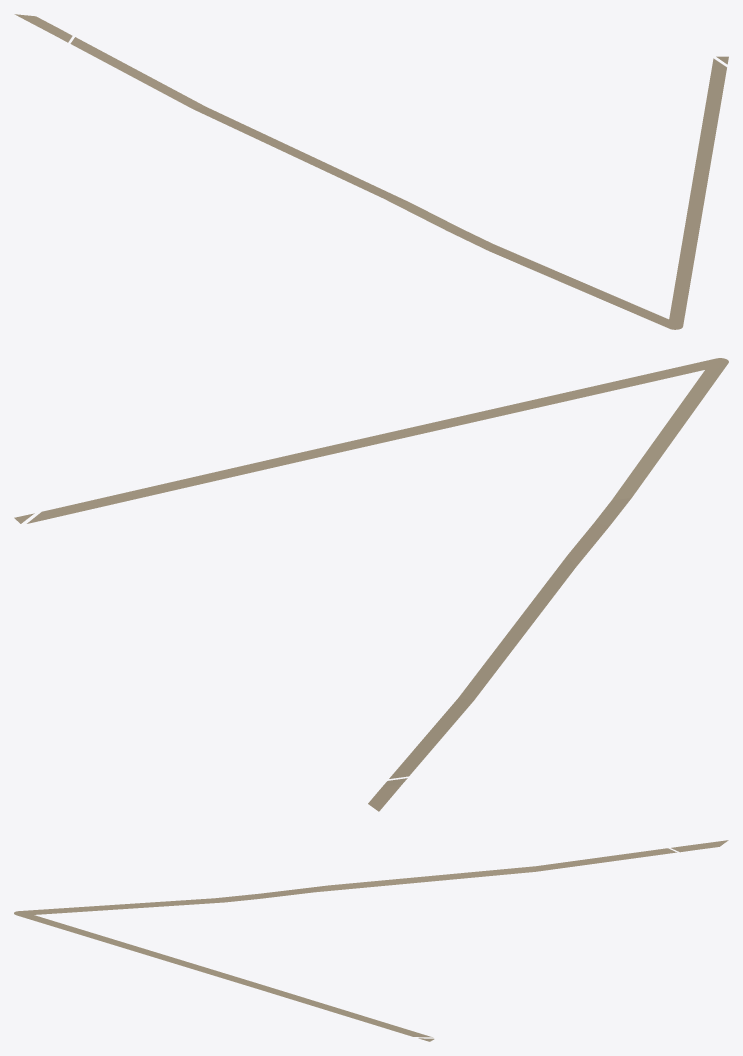
File: farm_37_27_track.glb
3 views of the same model, one above another, from view 1: azimuth 30°, elevation 25°; view 2: azimuth 150°, elevation 25°; view 3: azimuth 270°, elevation 25° (orthographic). The views are drawn at different scales.
Parts seen in each view (by area): view 1: geometry_0; view 2: geometry_0; view 3: geometry_0.
Boxes of the visible parts, x1,y1,x2,y2 form: geometry_0: [14, 14, 728, 329]; geometry_0: [14, 358, 728, 811]; geometry_0: [14, 840, 728, 1041].
Bounding box in the file's own units: 128 × 5.01 × 207.
